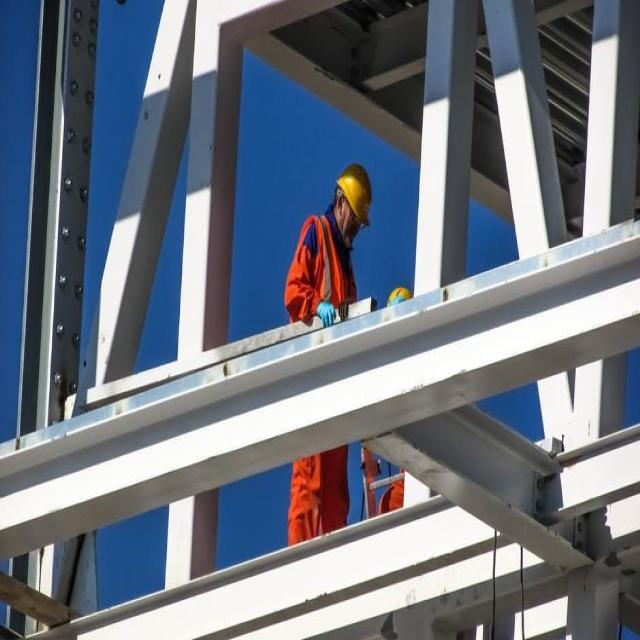Vest: (287, 213, 364, 357)
